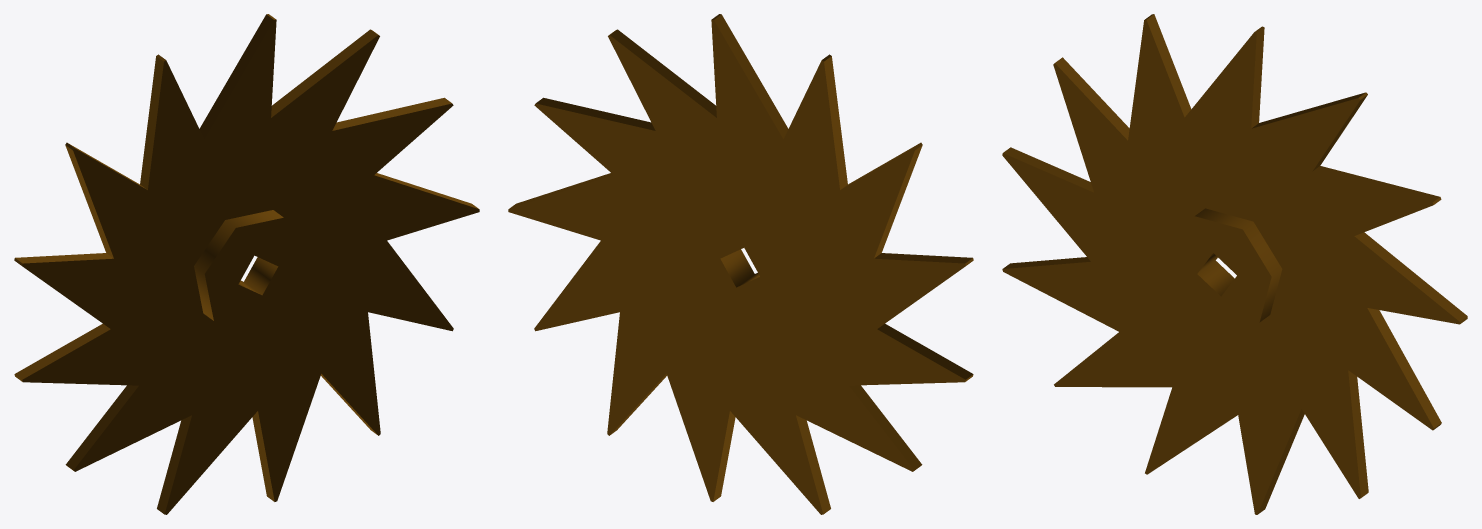
Rendered from Copie de Roue Ass 09^Copie de Assemblage 09_Horloge Comtoise Verge - Sonnerie.obj.
The picture shows the model from 3 angles, left to right: view 1: azimuth 30°, elevation 25°; view 2: azimuth 150°, elevation 25°; view 3: azimuth 330°, elevation 25°; orthographic projection.
Visible parts, largest first — view 1: Face_42, Face_43, Face_44, Face_30, Face_33, Face_27, Face_17, Face_20, Face_14, Face_36, Face_41, Face_24 (+2 smaller); view 2: Face_1, Face_30, Face_33, Face_27, Face_17, Face_20, Face_14, Face_36, Face_41, Face_24, Face_11, Face_23; view 3: Face_42, Face_43, Face_44, Face_3, Face_39, Face_6, Face_29, Face_26, Face_36, Face_23, Face_41, Face_32 (+1 smaller).
Boxes of the visible parts, x1,y1,x2,y2 form: Face_42: [22, 19, 479, 514]; Face_43: [204, 217, 312, 333]; Face_44: [194, 210, 283, 320]; Face_30: [199, 14, 273, 138]; Face_33: [271, 29, 377, 117]; Face_27: [140, 56, 163, 189]; Face_17: [65, 385, 138, 470]; Face_20: [14, 324, 110, 379]; Face_14: [157, 415, 191, 514]; Face_36: [332, 97, 451, 130]; Face_41: [238, 257, 278, 295]; Face_24: [65, 145, 113, 258]; Face_1: [508, 19, 965, 514]; Face_30: [714, 14, 788, 138]; Face_33: [610, 29, 716, 117]; Face_27: [824, 56, 847, 189]; Face_17: [849, 385, 922, 470]; Face_20: [877, 324, 973, 379]; Face_14: [796, 415, 830, 514]; Face_36: [536, 97, 655, 130]; Face_41: [720, 249, 759, 287]; Face_24: [874, 145, 922, 258]; Face_11: [713, 411, 735, 501]; Face_23: [874, 253, 972, 263]; Face_42: [1002, 19, 1459, 514]; Face_43: [1163, 216, 1271, 332]; Face_44: [1195, 208, 1282, 322]; Face_3: [1367, 308, 1441, 428]; Face_39: [1354, 232, 1467, 321]; Face_6: [1348, 370, 1368, 497]; Face_29: [1146, 14, 1191, 117]; Face_26: [1055, 57, 1129, 140]; Face_36: [1313, 166, 1439, 202]; Face_23: [1003, 147, 1093, 192]; Face_41: [1197, 253, 1234, 296]; Face_32: [1251, 27, 1264, 128].
Bounding box in the file's own units: 0.0371 × 0.0373 × 0.0026.
